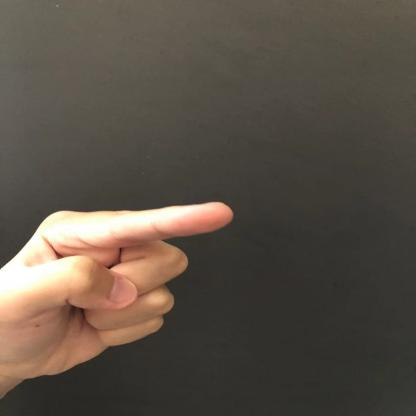finger_point: (43, 173, 274, 258)
